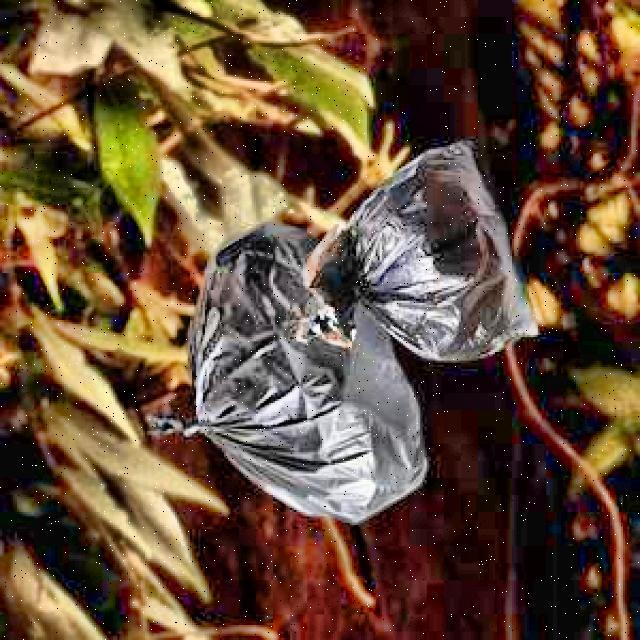Trashbag: (297, 140, 545, 368), (180, 234, 382, 506)
